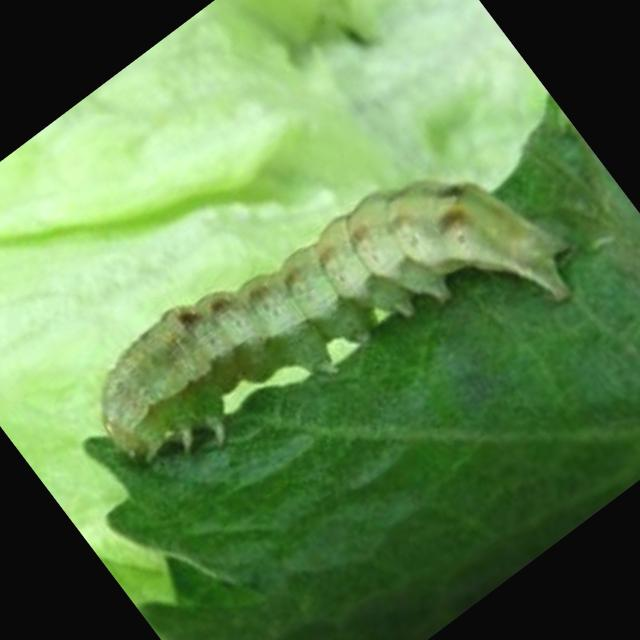Cotton bollworm: (0, 13, 640, 639)
